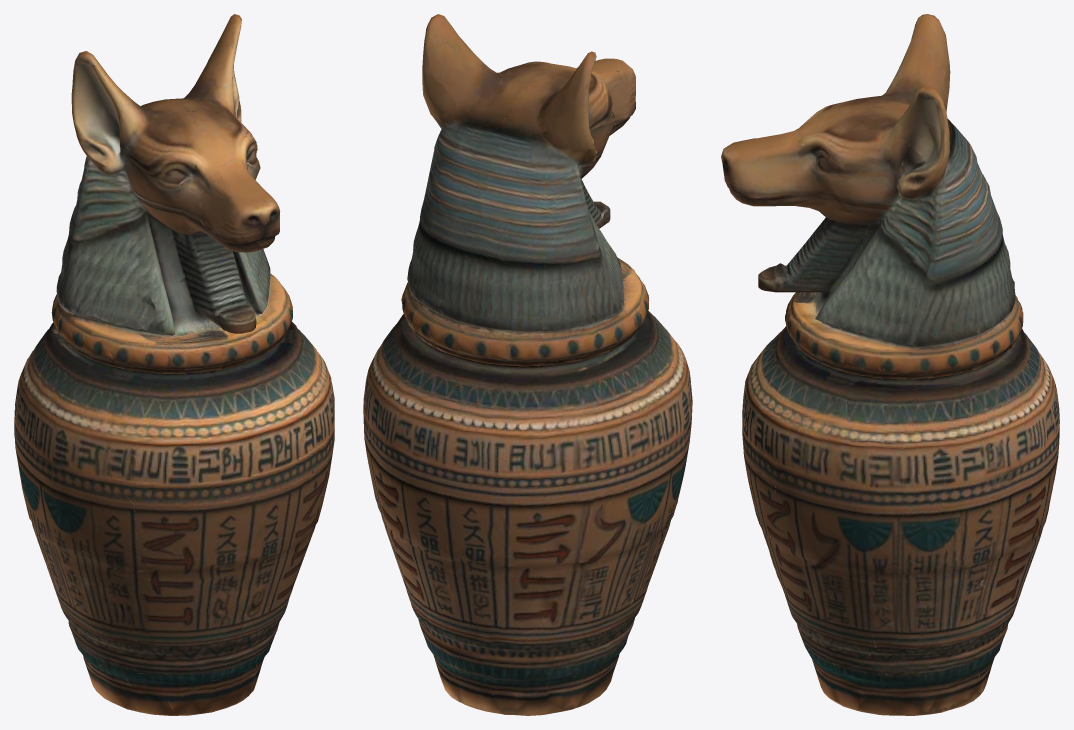
File: canopic_jar_dec.glb
3 renders of one model, left to right at view 1: azimuth 30°, elevation 25°; view 2: azimuth 150°, elevation 25°; view 3: azimuth 270°, elevation 25°, orthographic. The views are drawn at different scales.
Visible parts, largest first — view 1: Mesh_0.003; view 2: Mesh_0.003; view 3: Mesh_0.003.
Part boxes in pixels (x1,y1,x2,y2): Mesh_0.003: (14, 14, 334, 715); Mesh_0.003: (363, 14, 692, 715); Mesh_0.003: (721, 14, 1059, 715).
Size of the model in its own units: 0.8655 by 1.91 by 0.9279.
Materials: 1 (1 with a texture image).
